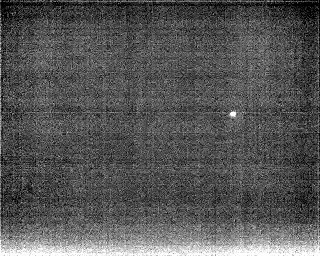AIRPLANE: (228, 109, 238, 120)
